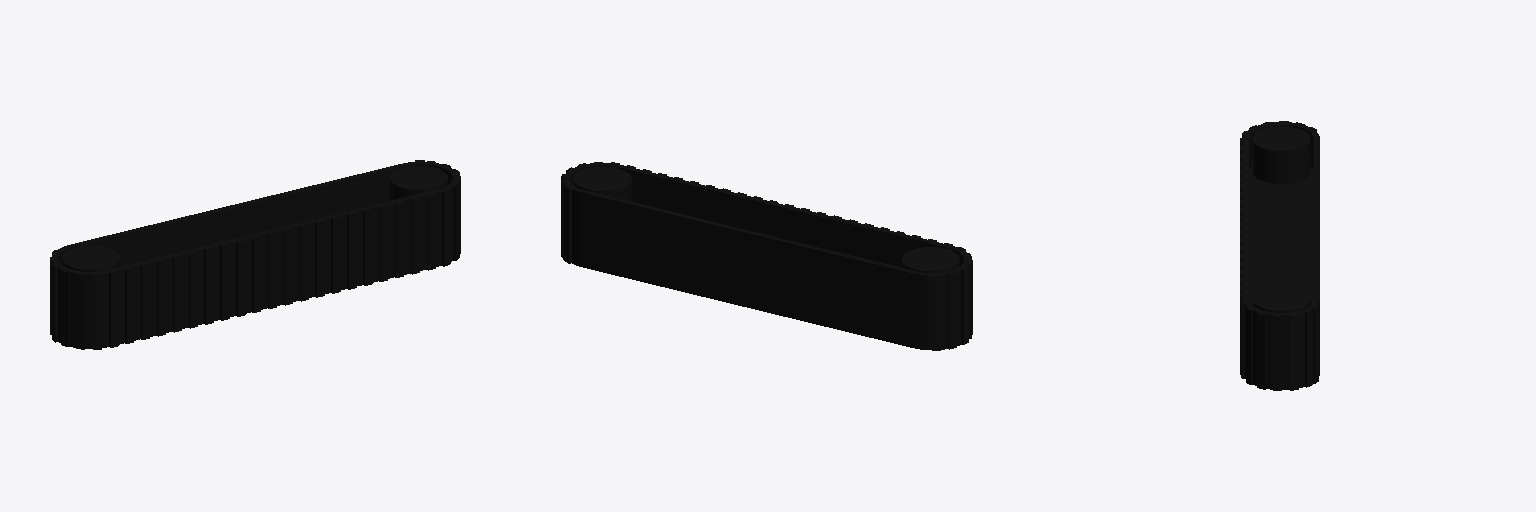
Rendered from TrackAnimation2.obj.
3 views of the same model, side by side, from view 1: azimuth 30°, elevation 25°; view 2: azimuth 150°, elevation 25°; view 3: azimuth 270°, elevation 25° (orthographic).
Visible parts, largest first — view 1: Body1; view 2: Body1; view 3: Body1.
Boxes of the visible parts, box(x1,y1,x2,y2) form: Body1: box(50, 160, 460, 349); Body1: box(561, 162, 972, 350); Body1: box(1240, 121, 1319, 390).
Bounding box in the file's own units: 152 × 27 × 26.